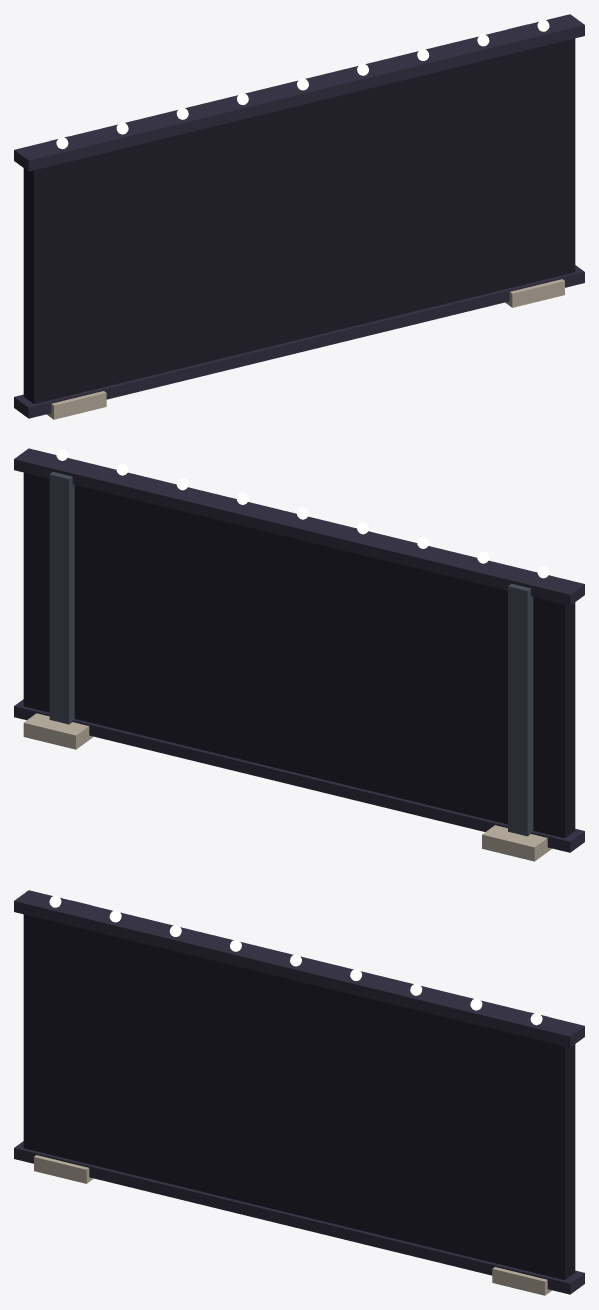
File: prop_plaza_screen_ph.glb
3 renders of one model, top to bottom at view 1: azimuth 30°, elevation 25°; view 2: azimuth 150°, elevation 25°; view 3: azimuth 330°, elevation 25°, orthographic.
Parts seen in each view (by area): view 1: prop_plaza_screen; view 2: prop_plaza_screen; view 3: prop_plaza_screen.
Boxes of the visible parts, <box> form: prop_plaza_screen: <box>14,14,584,419</box>; prop_plaza_screen: <box>14,448,584,861</box>; prop_plaza_screen: <box>14,890,584,1295</box>.
Size of the model in its own units: 7.4 by 3.48 by 0.7.
